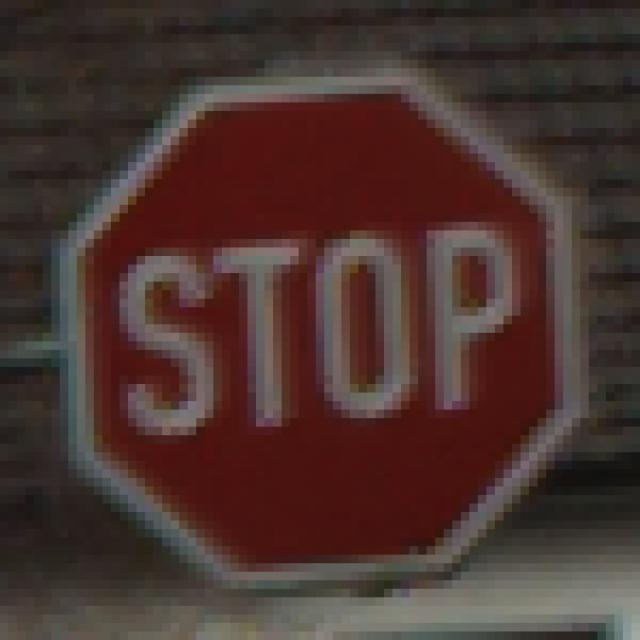STOP: (52, 61, 590, 590)
